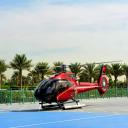helicopter: (30, 60, 126, 114)
